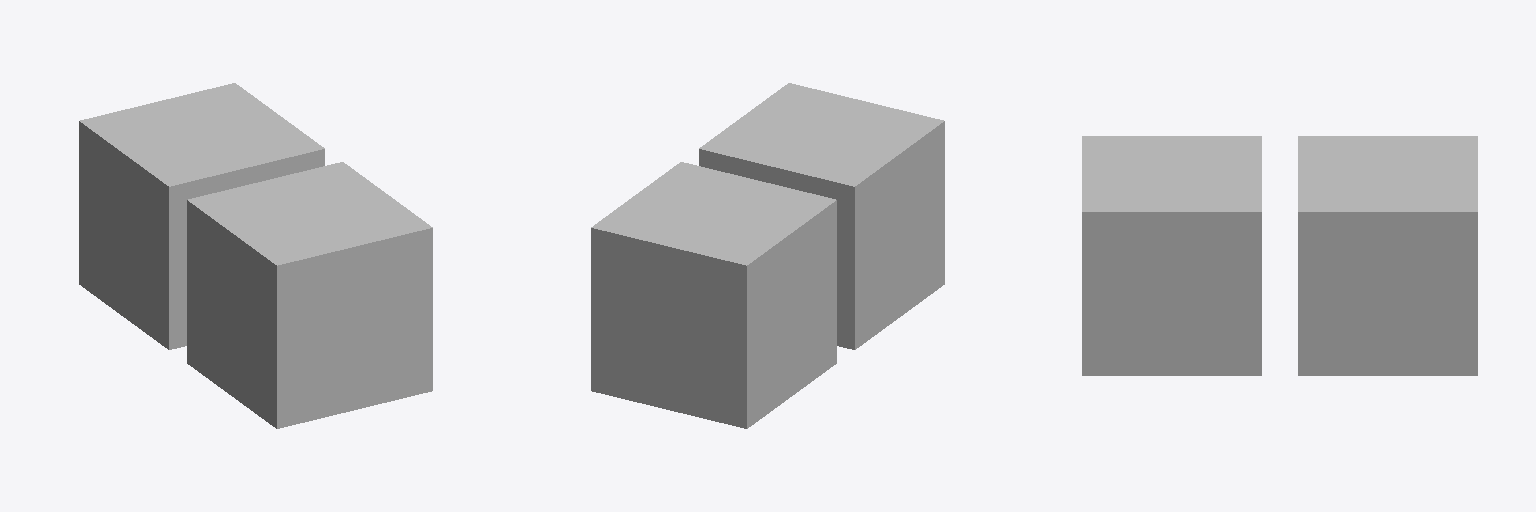
File: brick_cubes.obj
3 renders of one model, left to right at view 1: azimuth 30°, elevation 25°; view 2: azimuth 150°, elevation 25°; view 3: azimuth 270°, elevation 25°, orthographic.
Visible parts, largest first — view 1: Cube.001_Cube.002, Cube; view 2: Cube, Cube.001_Cube.002; view 3: Cube, Cube.001_Cube.002.
Part boxes in pixels (bbox=[...]): Cube.001_Cube.002: bbox=[187, 162, 432, 428]; Cube: bbox=[79, 83, 324, 349]; Cube: bbox=[591, 162, 836, 428]; Cube.001_Cube.002: bbox=[699, 83, 944, 349]; Cube: bbox=[1298, 136, 1477, 375]; Cube.001_Cube.002: bbox=[1082, 136, 1261, 375].
Bounding box in the file's own units: 2 × 2 × 4.39.